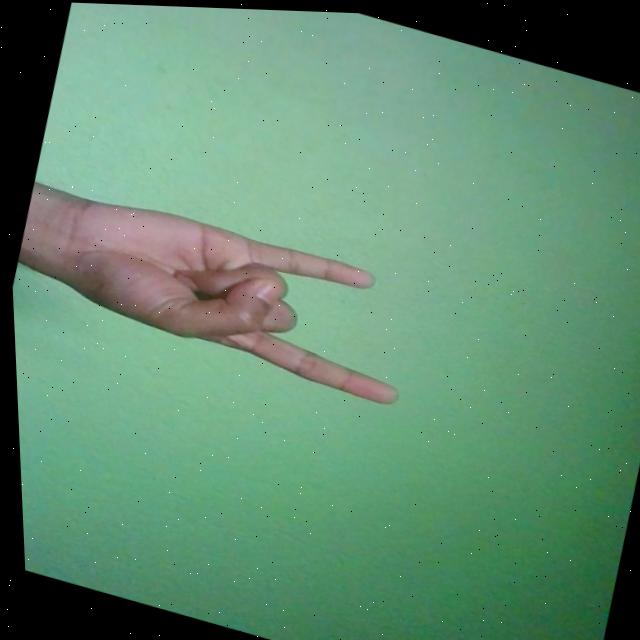Rock On: (30, 181, 423, 406)
